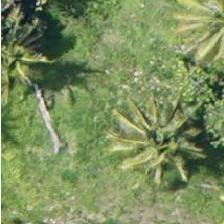Kelapa_Sawit: (108, 105, 198, 195)
